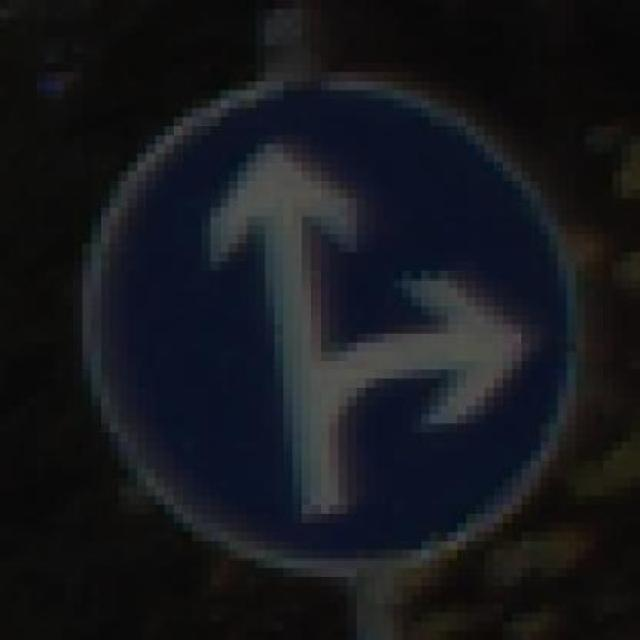Go Straight or Turn Right: (55, 63, 576, 568)
